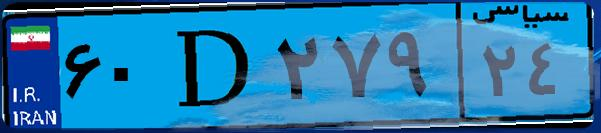0: (110, 28, 158, 98)
2: (270, 28, 330, 110), (475, 38, 525, 113)
4: (525, 38, 570, 115)
6: (57, 26, 110, 100)
7: (330, 28, 385, 110)
9: (385, 28, 445, 110)
D: (158, 12, 270, 120)
